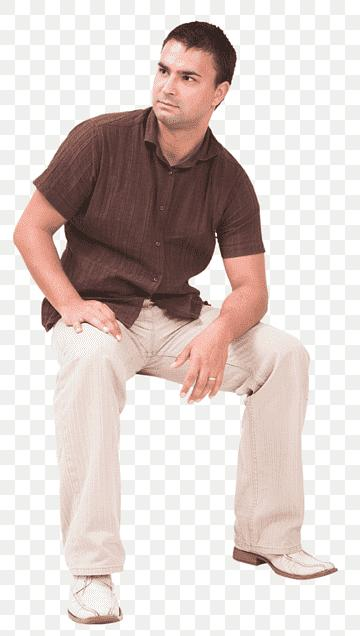trousers: (54, 295, 312, 582)
